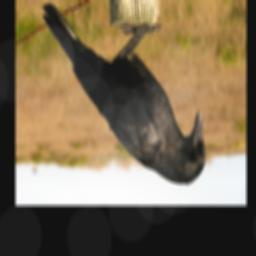Crow: (39, 1, 206, 185)
